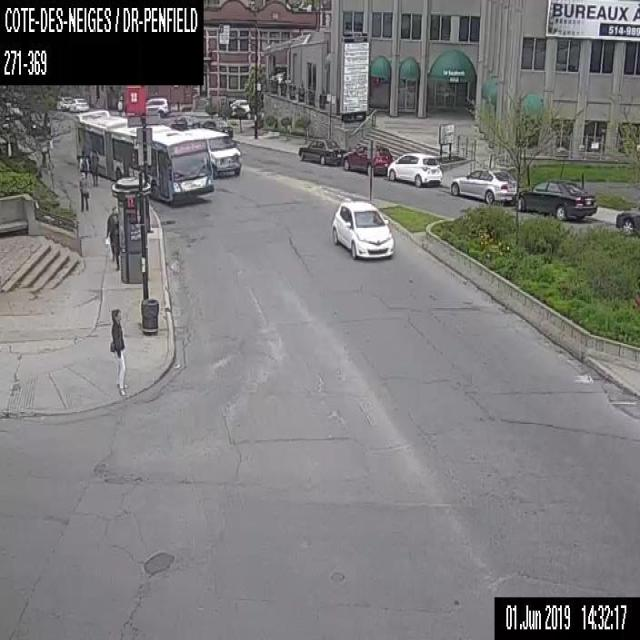bus: (75, 108, 214, 203)
pedestrian: (108, 308, 126, 393), (105, 204, 119, 263), (109, 213, 120, 271), (78, 171, 90, 209), (90, 149, 98, 187), (79, 149, 88, 178), (114, 160, 121, 180)
vehicle: (331, 198, 393, 258), (518, 179, 596, 220), (184, 126, 242, 176), (449, 167, 515, 204), (386, 151, 442, 188), (344, 144, 392, 175), (297, 136, 346, 165), (615, 201, 639, 232), (201, 118, 233, 140), (139, 95, 167, 117), (169, 114, 200, 130), (226, 97, 249, 115), (56, 94, 73, 112), (69, 96, 89, 110)
